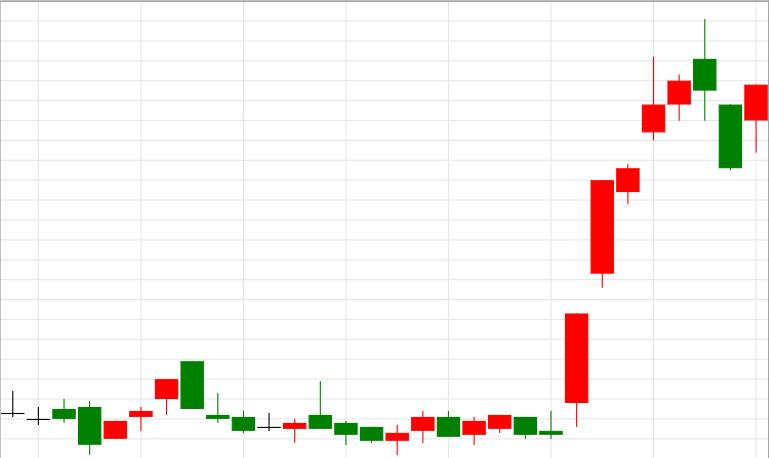shooting_star_fall: (539, 58, 665, 439)
